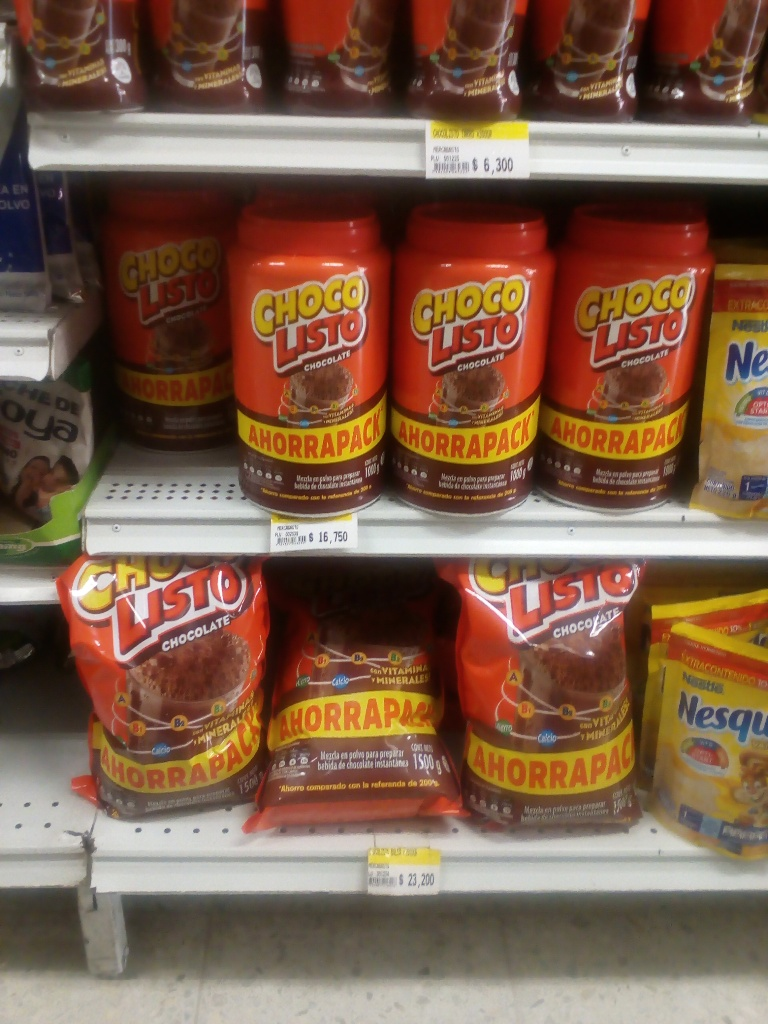COL0170103TRR00100: (92, 184, 232, 450)
